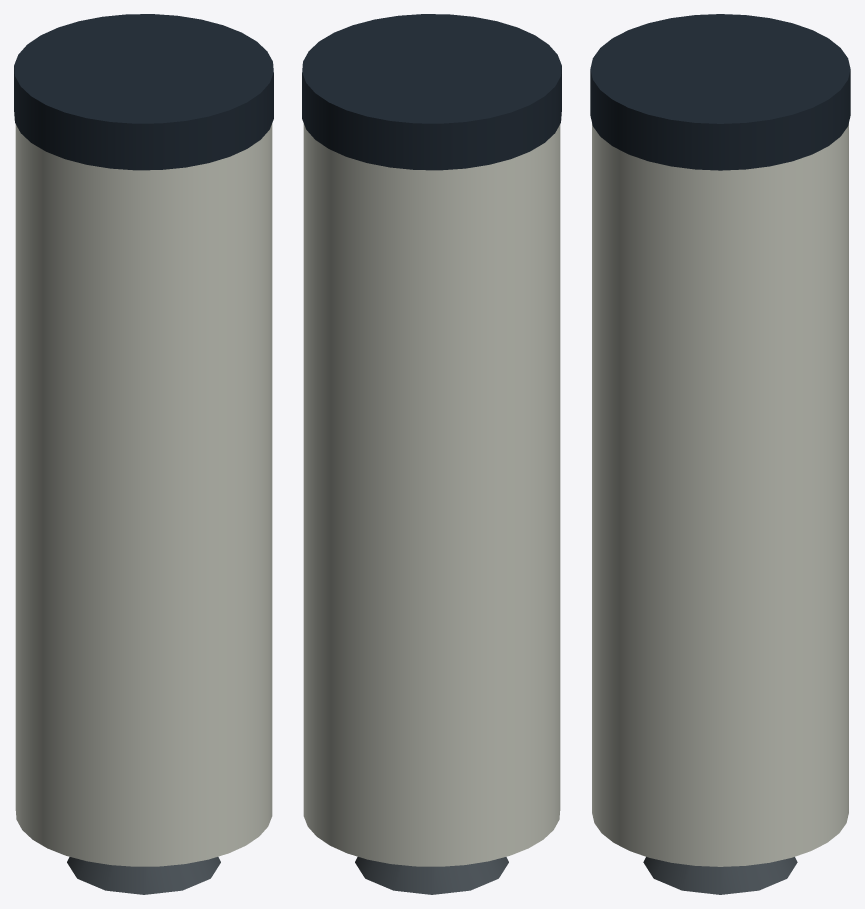
Rendered from soyuz-stage-3.glb.
3 renders of one model, left to right at view 1: azimuth 30°, elevation 25°; view 2: azimuth 150°, elevation 25°; view 3: azimuth 270°, elevation 25°, orthographic.
Parts seen in each view (by area): view 1: body-2, interstage-2, engine-2-0; view 2: body-2, interstage-2, engine-2-0; view 3: body-2, interstage-2, engine-2-0.
Boxes of the visible parts, left/top/right/bottom form: body-2: left=15, top=123, right=272, bottom=866; interstage-2: left=14, top=14, right=273, bottom=170; engine-2-0: left=67, top=857, right=220, bottom=894; body-2: left=303, top=123, right=560, bottom=866; interstage-2: left=302, top=14, right=561, bottom=170; engine-2-0: left=355, top=857, right=508, bottom=894; body-2: left=592, top=123, right=848, bottom=866; interstage-2: left=590, top=14, right=850, bottom=170; engine-2-0: left=643, top=857, right=797, bottom=894.
Size of the model in its own units: 2.99 by 10.04 by 2.99.
